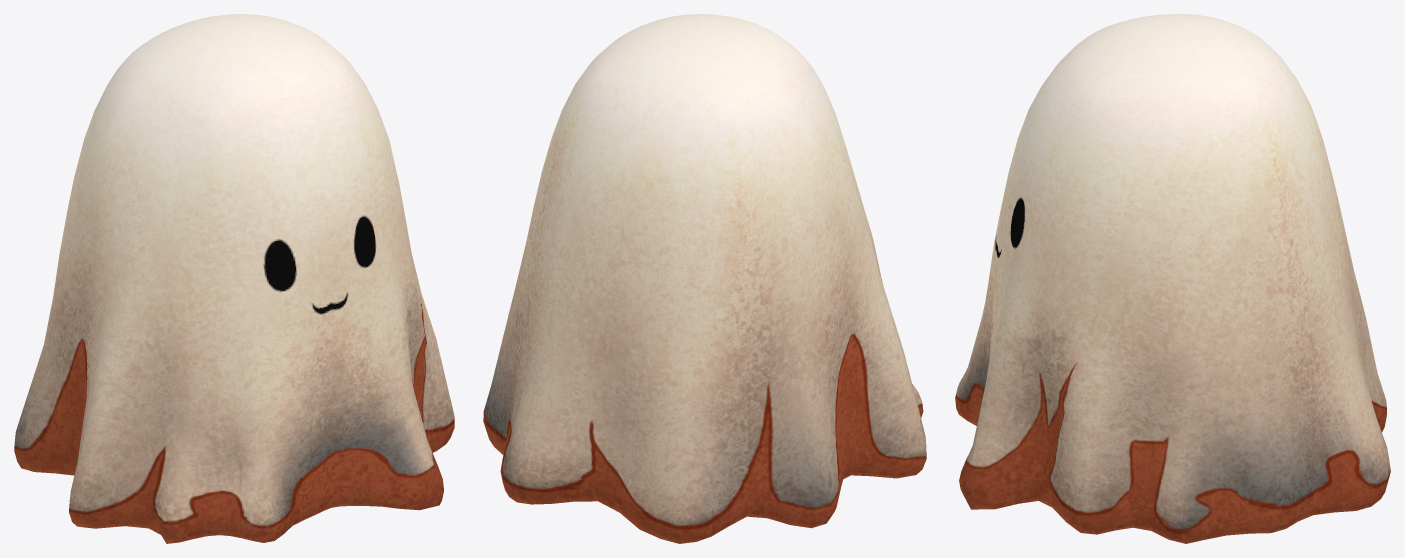
Rendered from ghost.glb.
3 renders of one model, left to right at view 1: azimuth 30°, elevation 25°; view 2: azimuth 150°, elevation 25°; view 3: azimuth 270°, elevation 25°, orthographic. The views are drawn at different scales.
Visible parts, largest first — view 1: Ghost; view 2: Ghost; view 3: Ghost.
Boxes of the visible parts, bbox=[...] form: Ghost: bbox=[14, 14, 454, 543]; Ghost: bbox=[483, 14, 926, 543]; Ghost: bbox=[955, 14, 1390, 543].
Size of the model in its own units: 2.71 by 3 by 2.6.
Materials: 1 (1 with a texture image).
